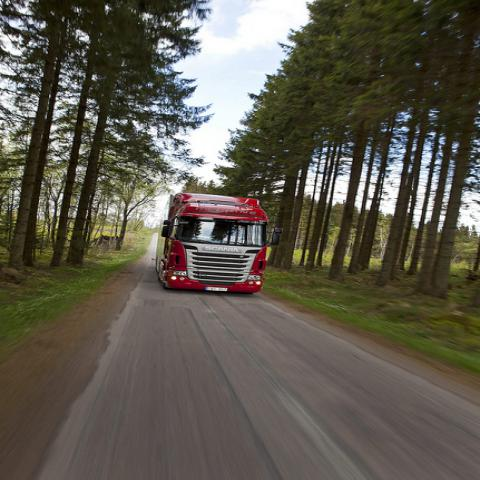truck: (145, 190, 280, 288)
